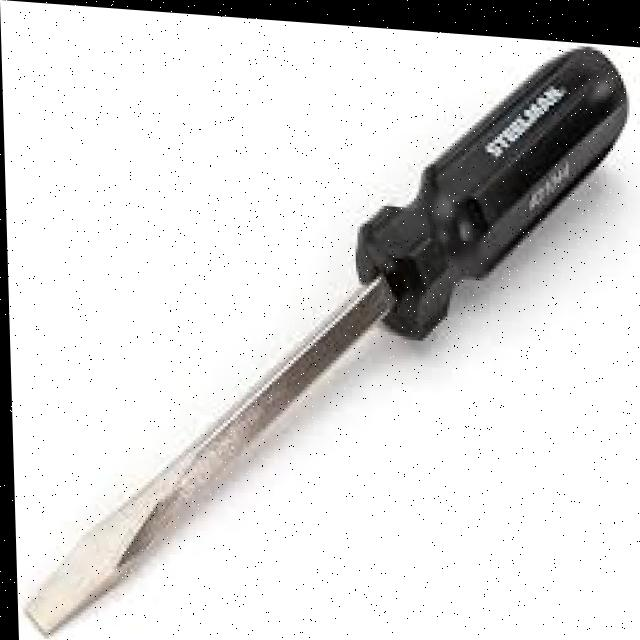Screwdriver: (23, 39, 628, 632)
